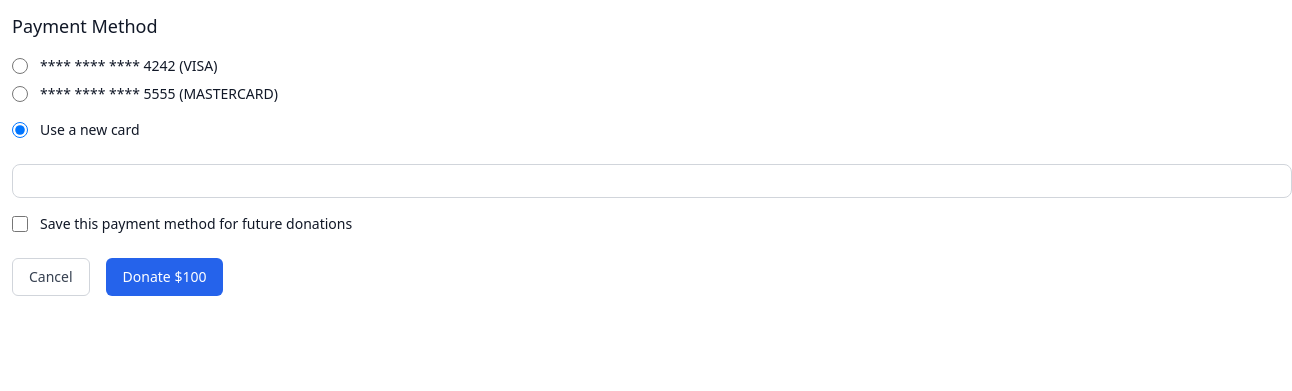
Test: PaymentForm › Error Handling › should handle network errors gracefully
Click the button "Donate $100".
click(164, 277)  # box [106,258,223,296]
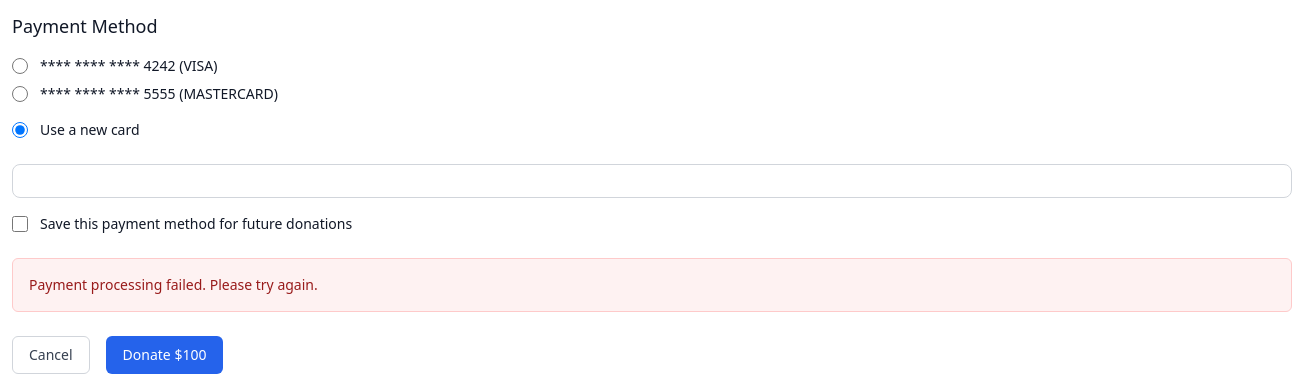
expect the text "Payment processing failed. Please try again." is shown: met, box [29,275,318,294]
